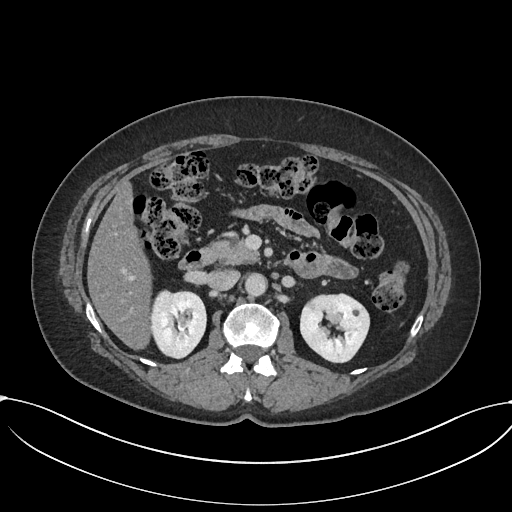Lesion: (349, 304, 360, 317)
